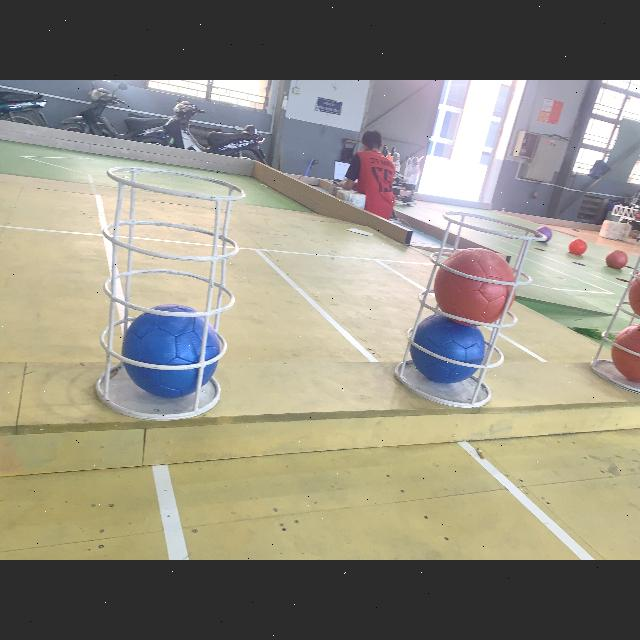B: (120, 304, 218, 404), (410, 314, 486, 386)
R: (435, 247, 515, 323), (610, 322, 640, 383), (626, 268, 640, 320)
